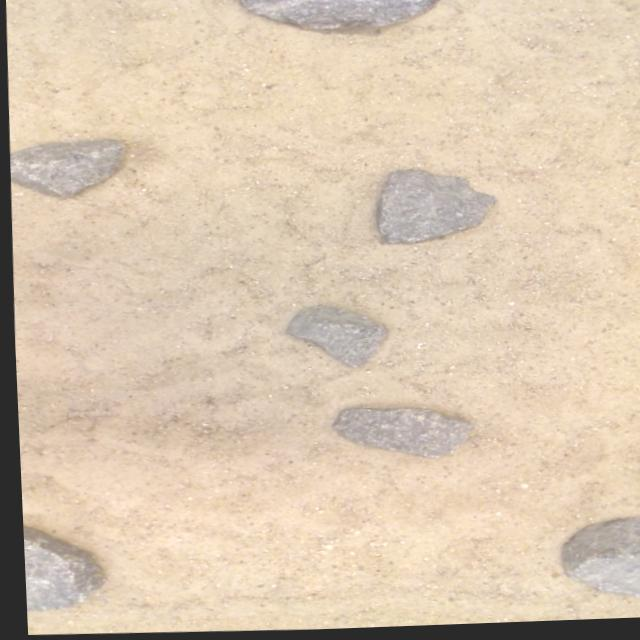rock: (377, 173, 493, 245), (18, 525, 100, 611), (329, 410, 466, 460), (557, 521, 640, 600), (8, 139, 123, 196), (240, 0, 440, 31), (284, 307, 384, 368)
